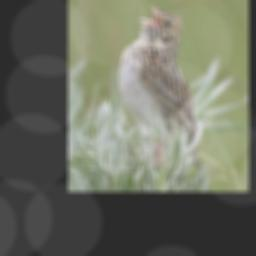Sparrow: (117, 5, 204, 186)
